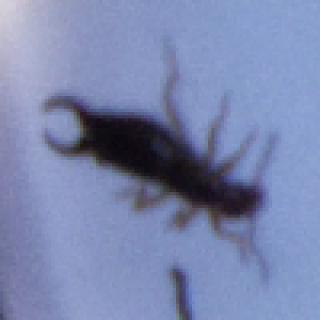earwig: (32, 32, 293, 296)
